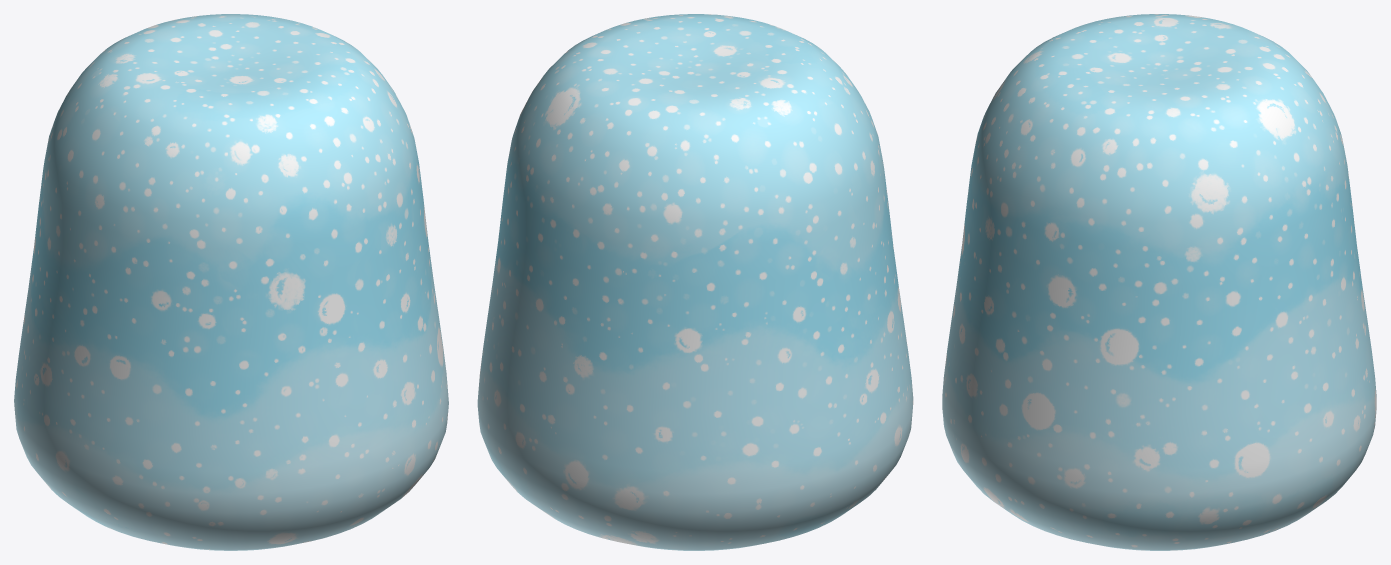
The model's file is blueGum.glb.
The picture shows the model from 3 angles, left to right: view 1: azimuth 30°, elevation 25°; view 2: azimuth 150°, elevation 25°; view 3: azimuth 270°, elevation 25°; orthographic projection.
Parts seen in each view (by area): view 1: gumdropblue; view 2: gumdropblue; view 3: gumdropblue.
Boxes of the visible parts, x1,y1,x2,y2 form: gumdropblue: [14, 14, 448, 550]; gumdropblue: [477, 14, 913, 550]; gumdropblue: [942, 14, 1376, 550].
Size of the model in its own units: 0.6912 by 0.7596 by 0.6905.
1 material, 1 textured.
